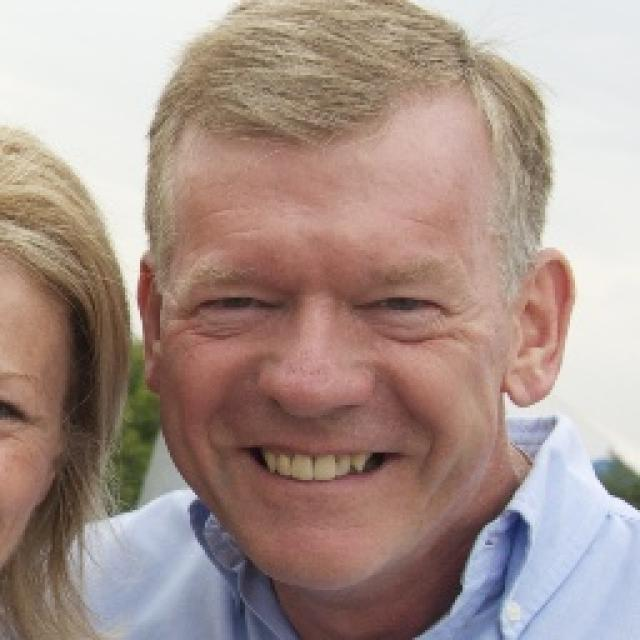earlobe: (502, 353, 549, 409), (142, 336, 164, 394)
eye: (365, 296, 445, 316), (195, 295, 279, 314)
nose: (244, 384, 377, 464)
wholeear: (503, 248, 577, 410), (136, 249, 164, 393)
